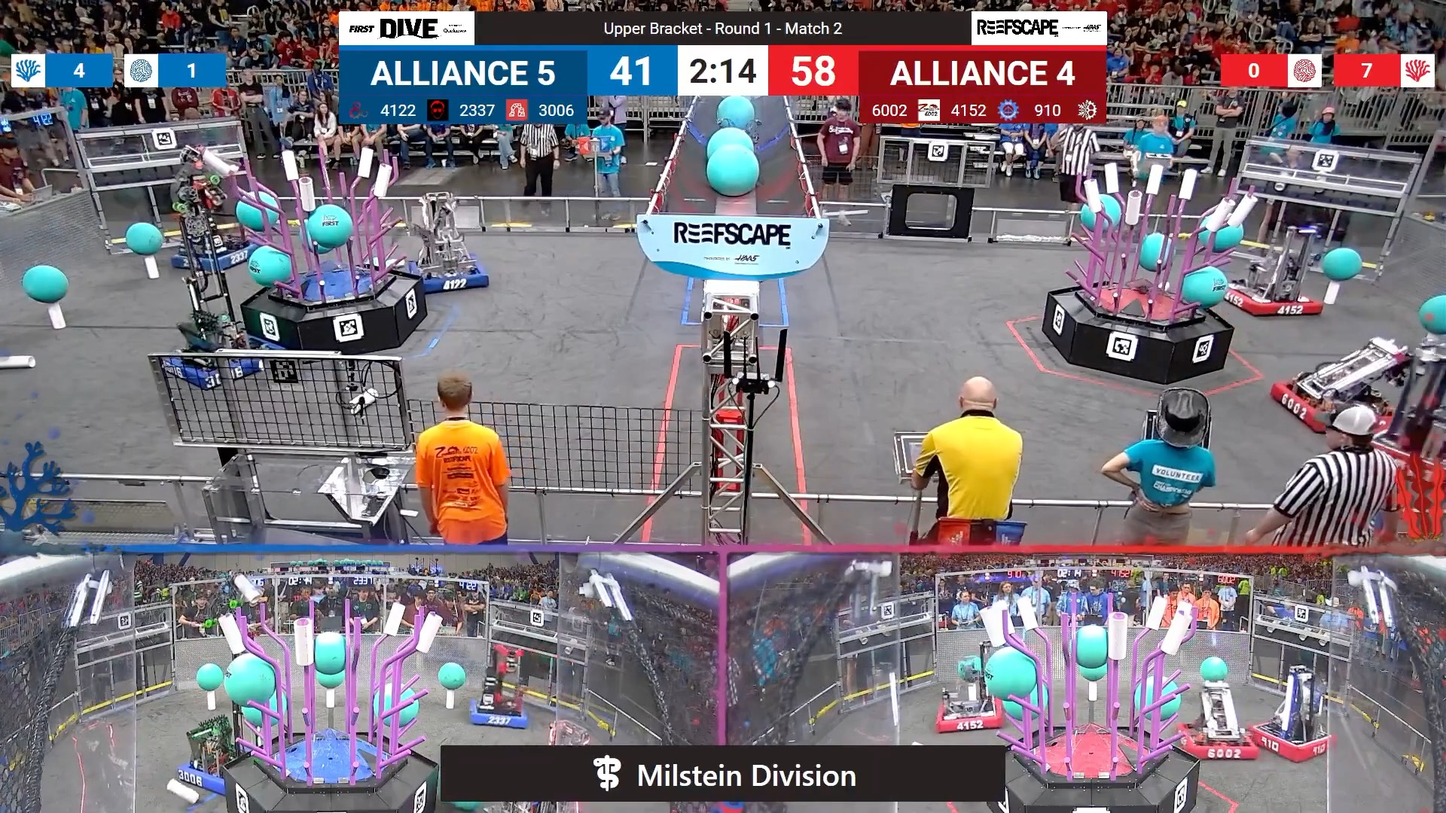bumpers: (1263, 374, 1408, 438), (160, 342, 275, 389), (1217, 280, 1328, 321), (1241, 720, 1342, 763), (393, 252, 493, 293), (932, 690, 1011, 737), (172, 743, 246, 793), (164, 239, 265, 273), (462, 695, 536, 732)
